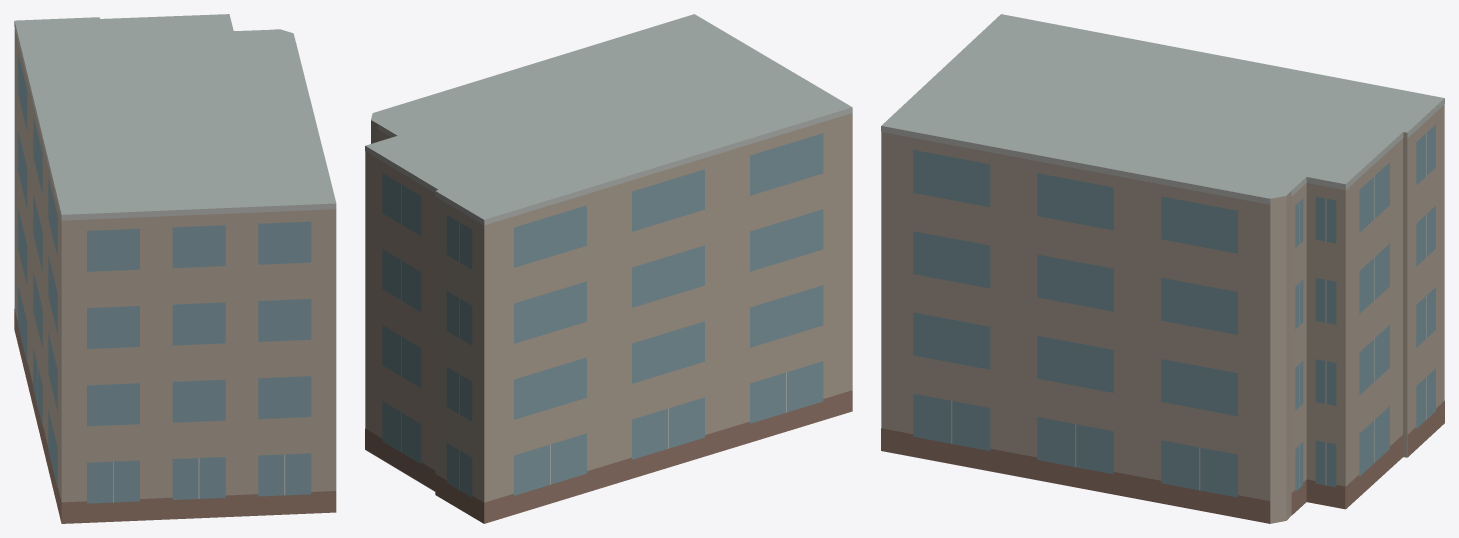
Rendered from survey-upis-32679589.glb.
The picture shows the model from 3 angles, left to right: view 1: azimuth 30°, elevation 25°; view 2: azimuth 150°, elevation 25°; view 3: azimuth 270°, elevation 25°; orthographic projection. The views are drawn at different scales.
Parts seen in each view (by area): view 1: survey-upis-32679589.tmp; view 2: survey-upis-32679589.tmp; view 3: survey-upis-32679589.tmp.
Part boxes in pixels (box(x1,y1,x2,y2)): survey-upis-32679589.tmp: box(14, 14, 336, 523); survey-upis-32679589.tmp: box(365, 14, 852, 523); survey-upis-32679589.tmp: box(881, 14, 1444, 523).
Bounding box in the file's own units: 16.16 × 13.25 × 20.83.
